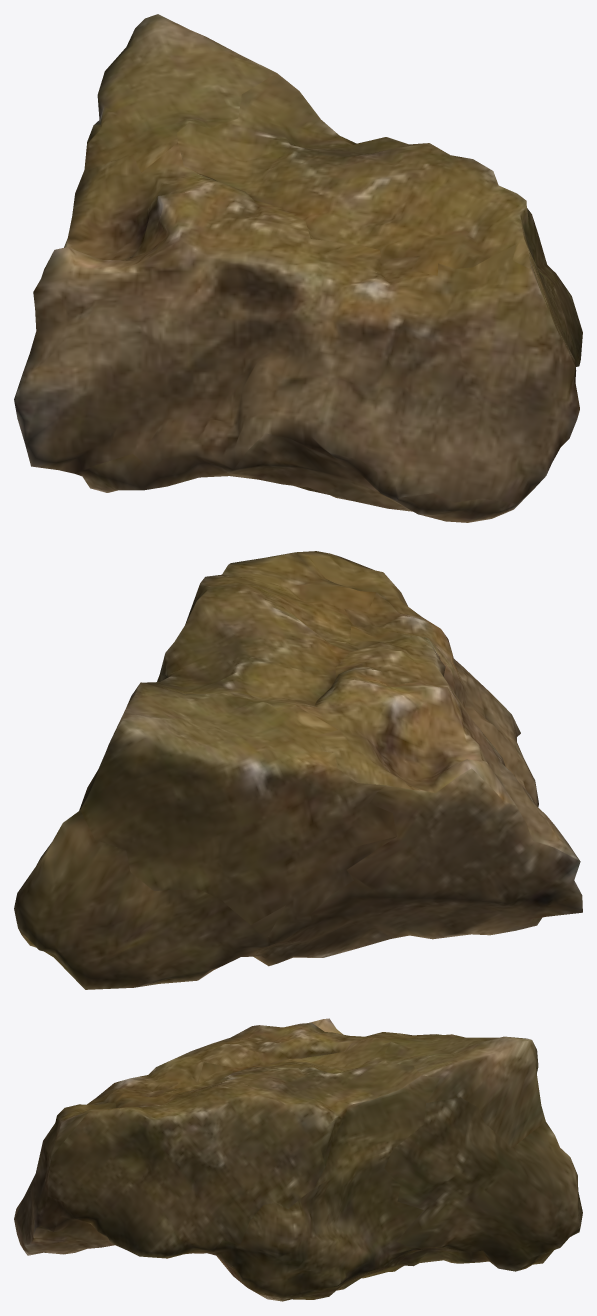
The model's file is mossrock_5.gltf.
3 renders of one model, top to bottom at view 1: azimuth 30°, elevation 25°; view 2: azimuth 150°, elevation 25°; view 3: azimuth 270°, elevation 25°, orthographic. The views are drawn at different scales.
Visible parts, largest first — view 1: mossrock_5; view 2: mossrock_5; view 3: mossrock_5.
Part boxes in pixels (x1=…): mossrock_5: x1=14, y1=14, x2=582, y2=522; mossrock_5: x1=14, y1=551, x2=582, y2=989; mossrock_5: x1=14, y1=1018, x2=582, y2=1301.
Size of the model in its own units: 2.13 by 1.26 by 2.76.
Materials: 1 (1 with a texture image).
